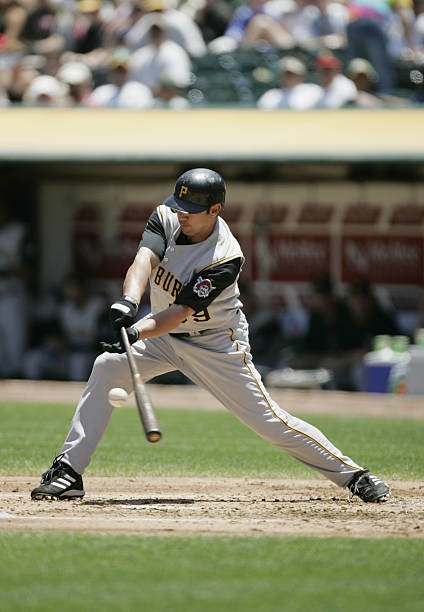bita: (117, 320, 164, 444)
